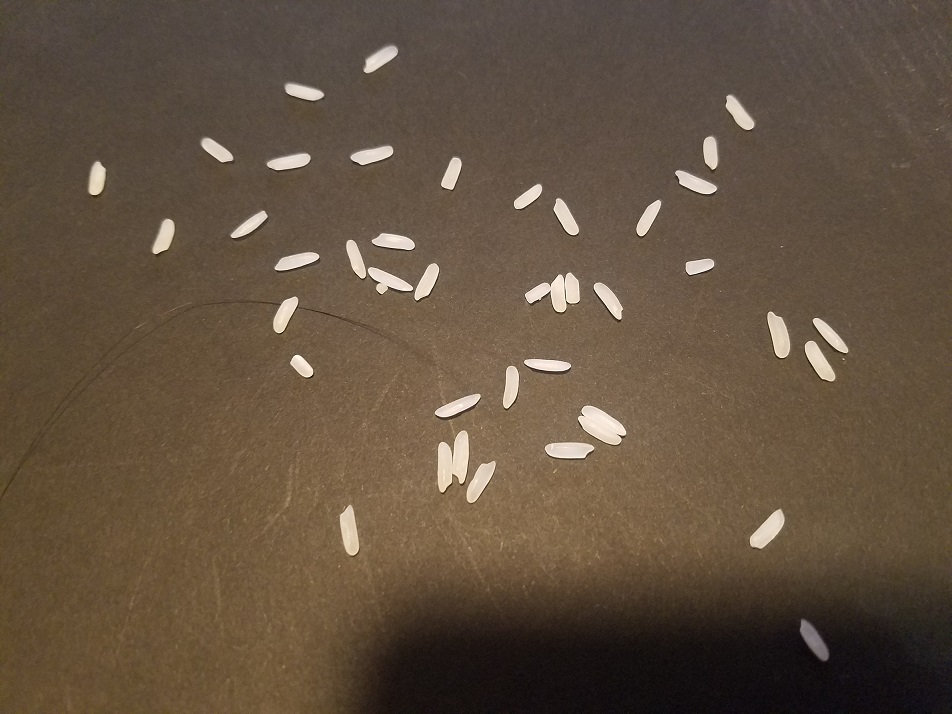egg: (807, 314, 852, 357), (747, 506, 788, 552), (793, 617, 832, 664), (432, 390, 483, 423), (464, 460, 499, 508), (803, 336, 838, 384), (578, 404, 627, 438), (763, 309, 793, 364), (574, 415, 625, 447), (226, 208, 272, 243), (720, 93, 759, 134), (590, 280, 627, 323), (365, 265, 417, 294), (672, 168, 720, 198), (634, 196, 665, 242), (552, 193, 582, 239), (347, 140, 396, 168), (336, 500, 360, 557), (361, 42, 399, 77), (542, 439, 598, 462), (368, 230, 418, 255), (273, 248, 321, 274), (413, 258, 440, 304), (342, 237, 370, 281), (151, 217, 178, 259), (198, 135, 236, 164), (272, 293, 298, 335), (434, 440, 454, 494), (262, 150, 311, 172), (436, 156, 464, 194), (84, 158, 109, 200), (452, 431, 470, 488), (511, 182, 546, 211), (501, 364, 522, 411), (550, 274, 574, 315), (283, 80, 326, 102), (683, 254, 717, 279), (523, 277, 553, 305), (518, 360, 574, 374), (564, 272, 585, 308), (701, 135, 721, 172), (289, 355, 316, 382), (374, 283, 388, 296)
